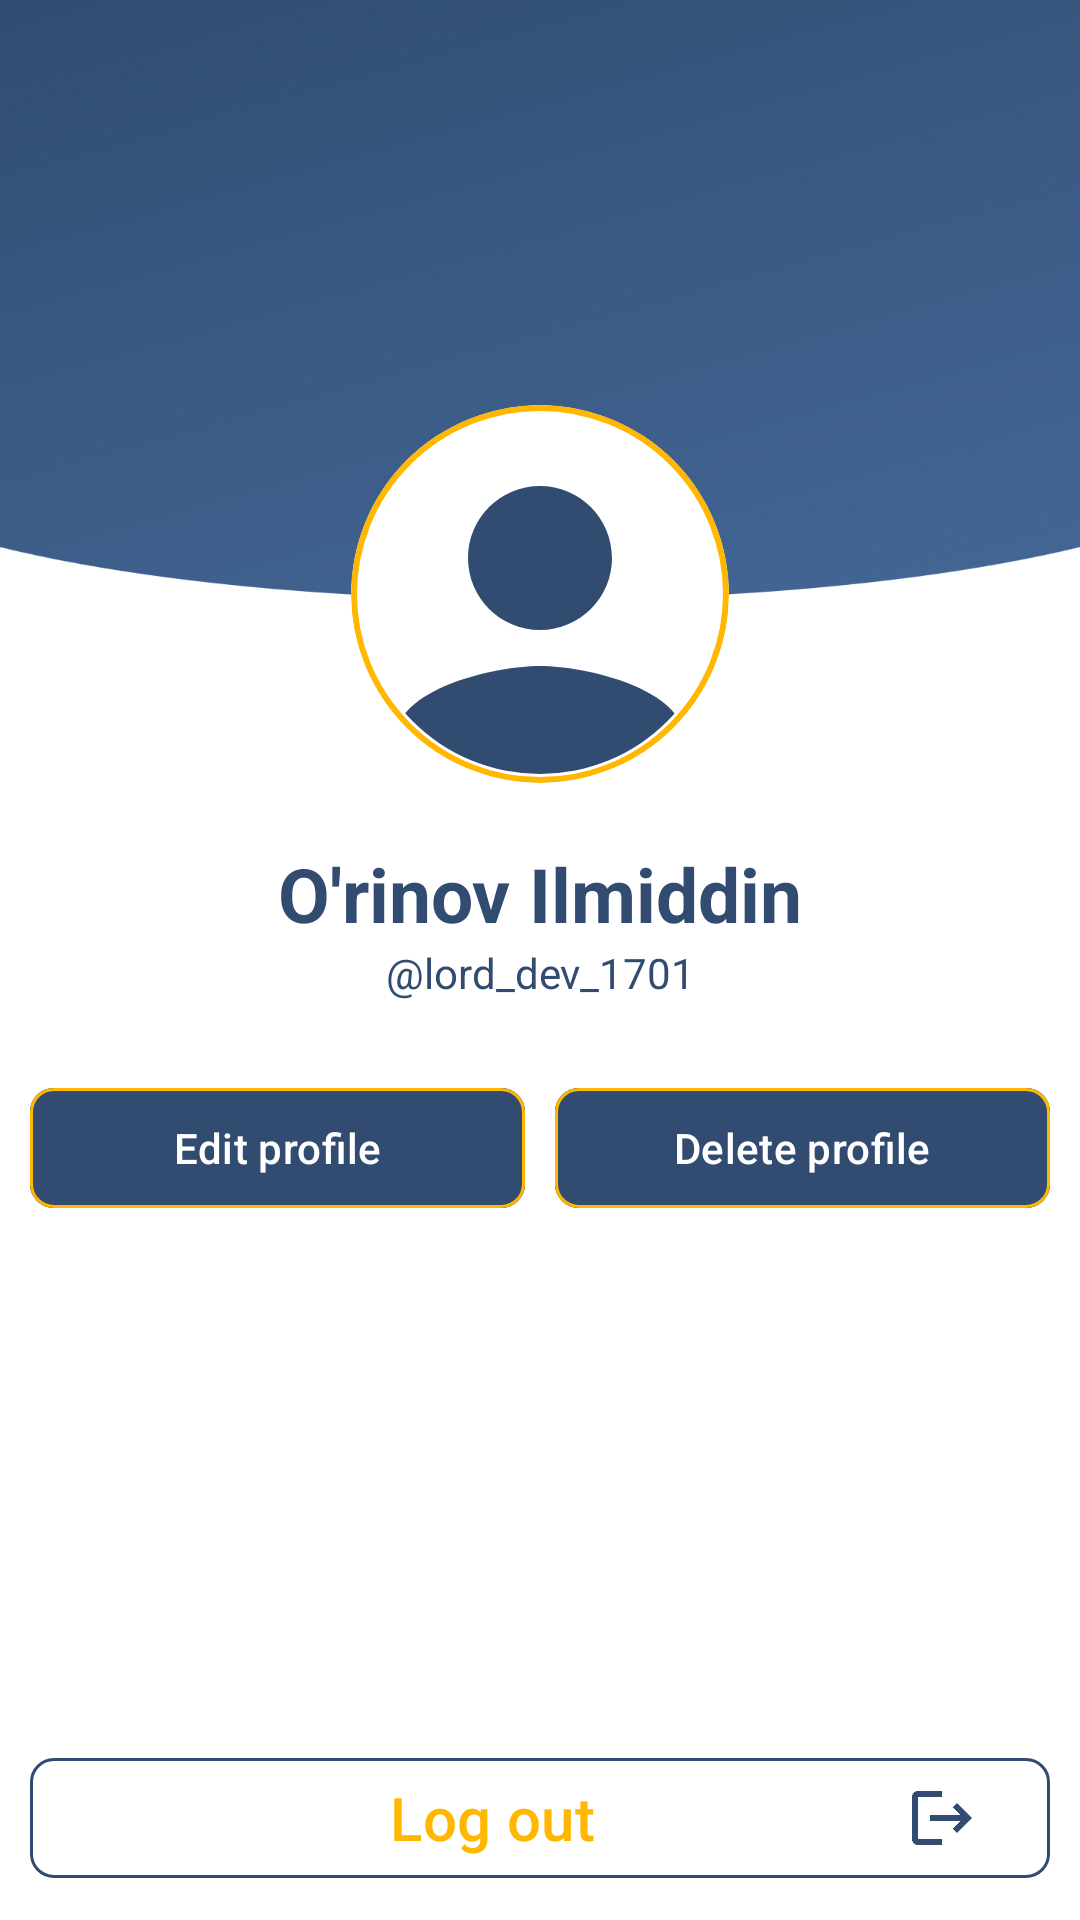

Named icons in this screenshot (1080 x 1920) and their centers, point (x, y):
user: point (540, 594)
